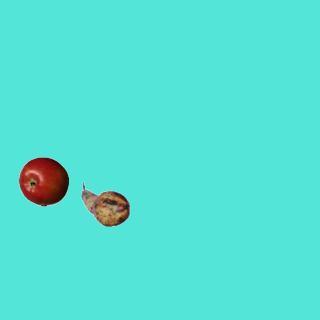Apple Braeburn: (18, 156, 68, 206)
Pear Abate: (80, 179, 130, 229)
